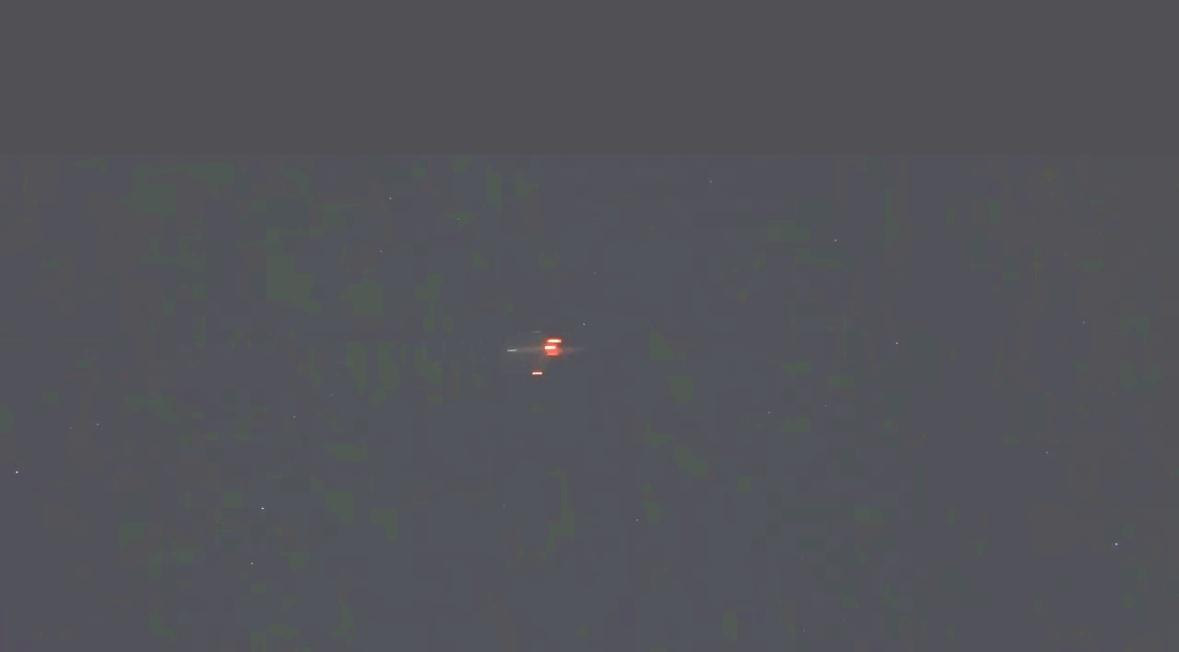Plane: (475, 322, 608, 392)
